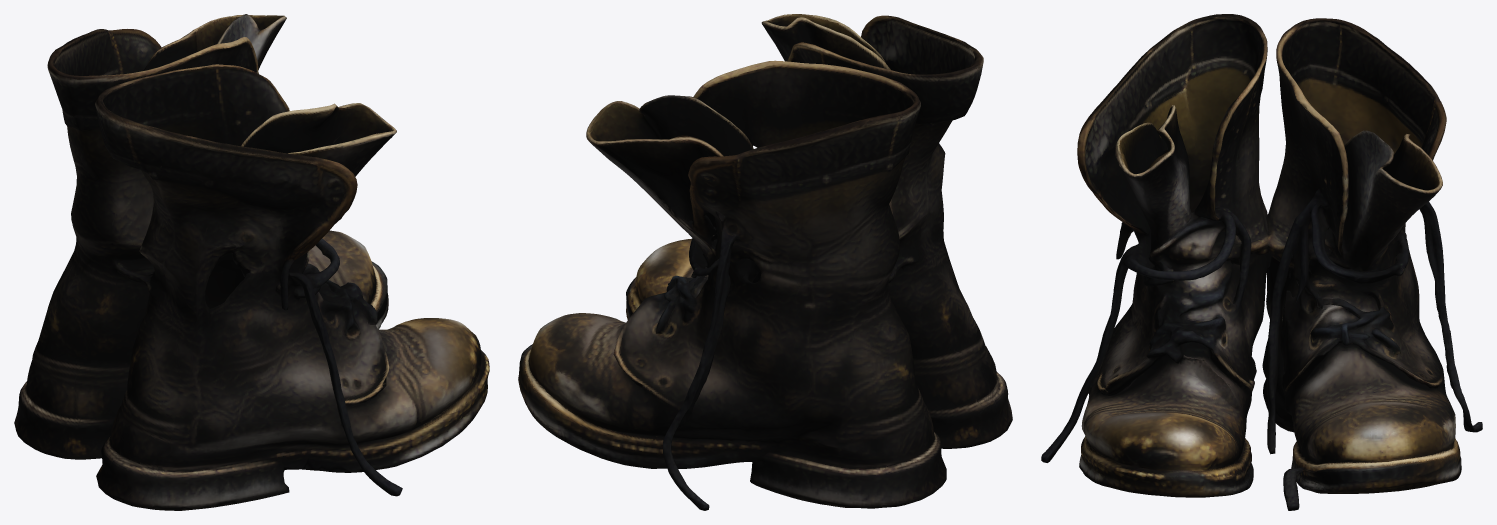
File: walkerboots.glb
The picture shows the model from 3 angles, left to right: view 1: azimuth 30°, elevation 25°; view 2: azimuth 150°, elevation 25°; view 3: azimuth 270°, elevation 25°; orthographic projection. The views are drawn at different scales.
Visible parts, largest first — view 1: world; view 2: world; view 3: world.
Boxes of the visible parts, <box> form: world: <box>14,14,489,510</box>; world: <box>518,14,1012,510</box>; world: <box>1041,14,1482,510</box>.
Size of the model in its own units: 0.9455 by 0.9069 by 1.
Materials: 1 (1 with a texture image).
